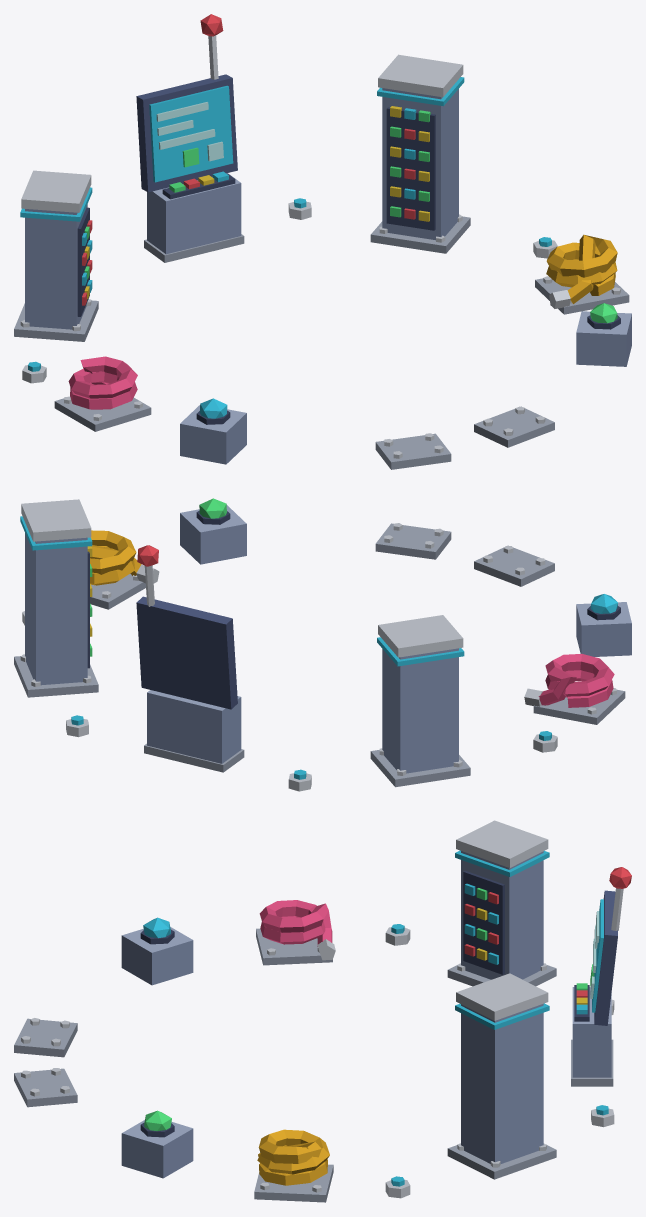
Rendered from habitat_theme_tech.fbx.
3 views of the same model, one above another, from view 1: azimuth 30°, elevation 25°; view 2: azimuth 150°, elevation 25°; view 3: azimuth 270°, elevation 25° (orthographic).
Parts seen in each view (by area): view 1: habitat_theme_tech; view 2: habitat_theme_tech; view 3: habitat_theme_tech.
Part boxes in pixels (left/top/right/bottom): habitat_theme_tech: left=14, top=14, right=631, bottom=469; habitat_theme_tech: left=14, top=498, right=631, bottom=791; habitat_theme_tech: left=14, top=820, right=631, bottom=1202.
Bounding box in the file's own units: 7.46 × 2.78 × 7.22.
